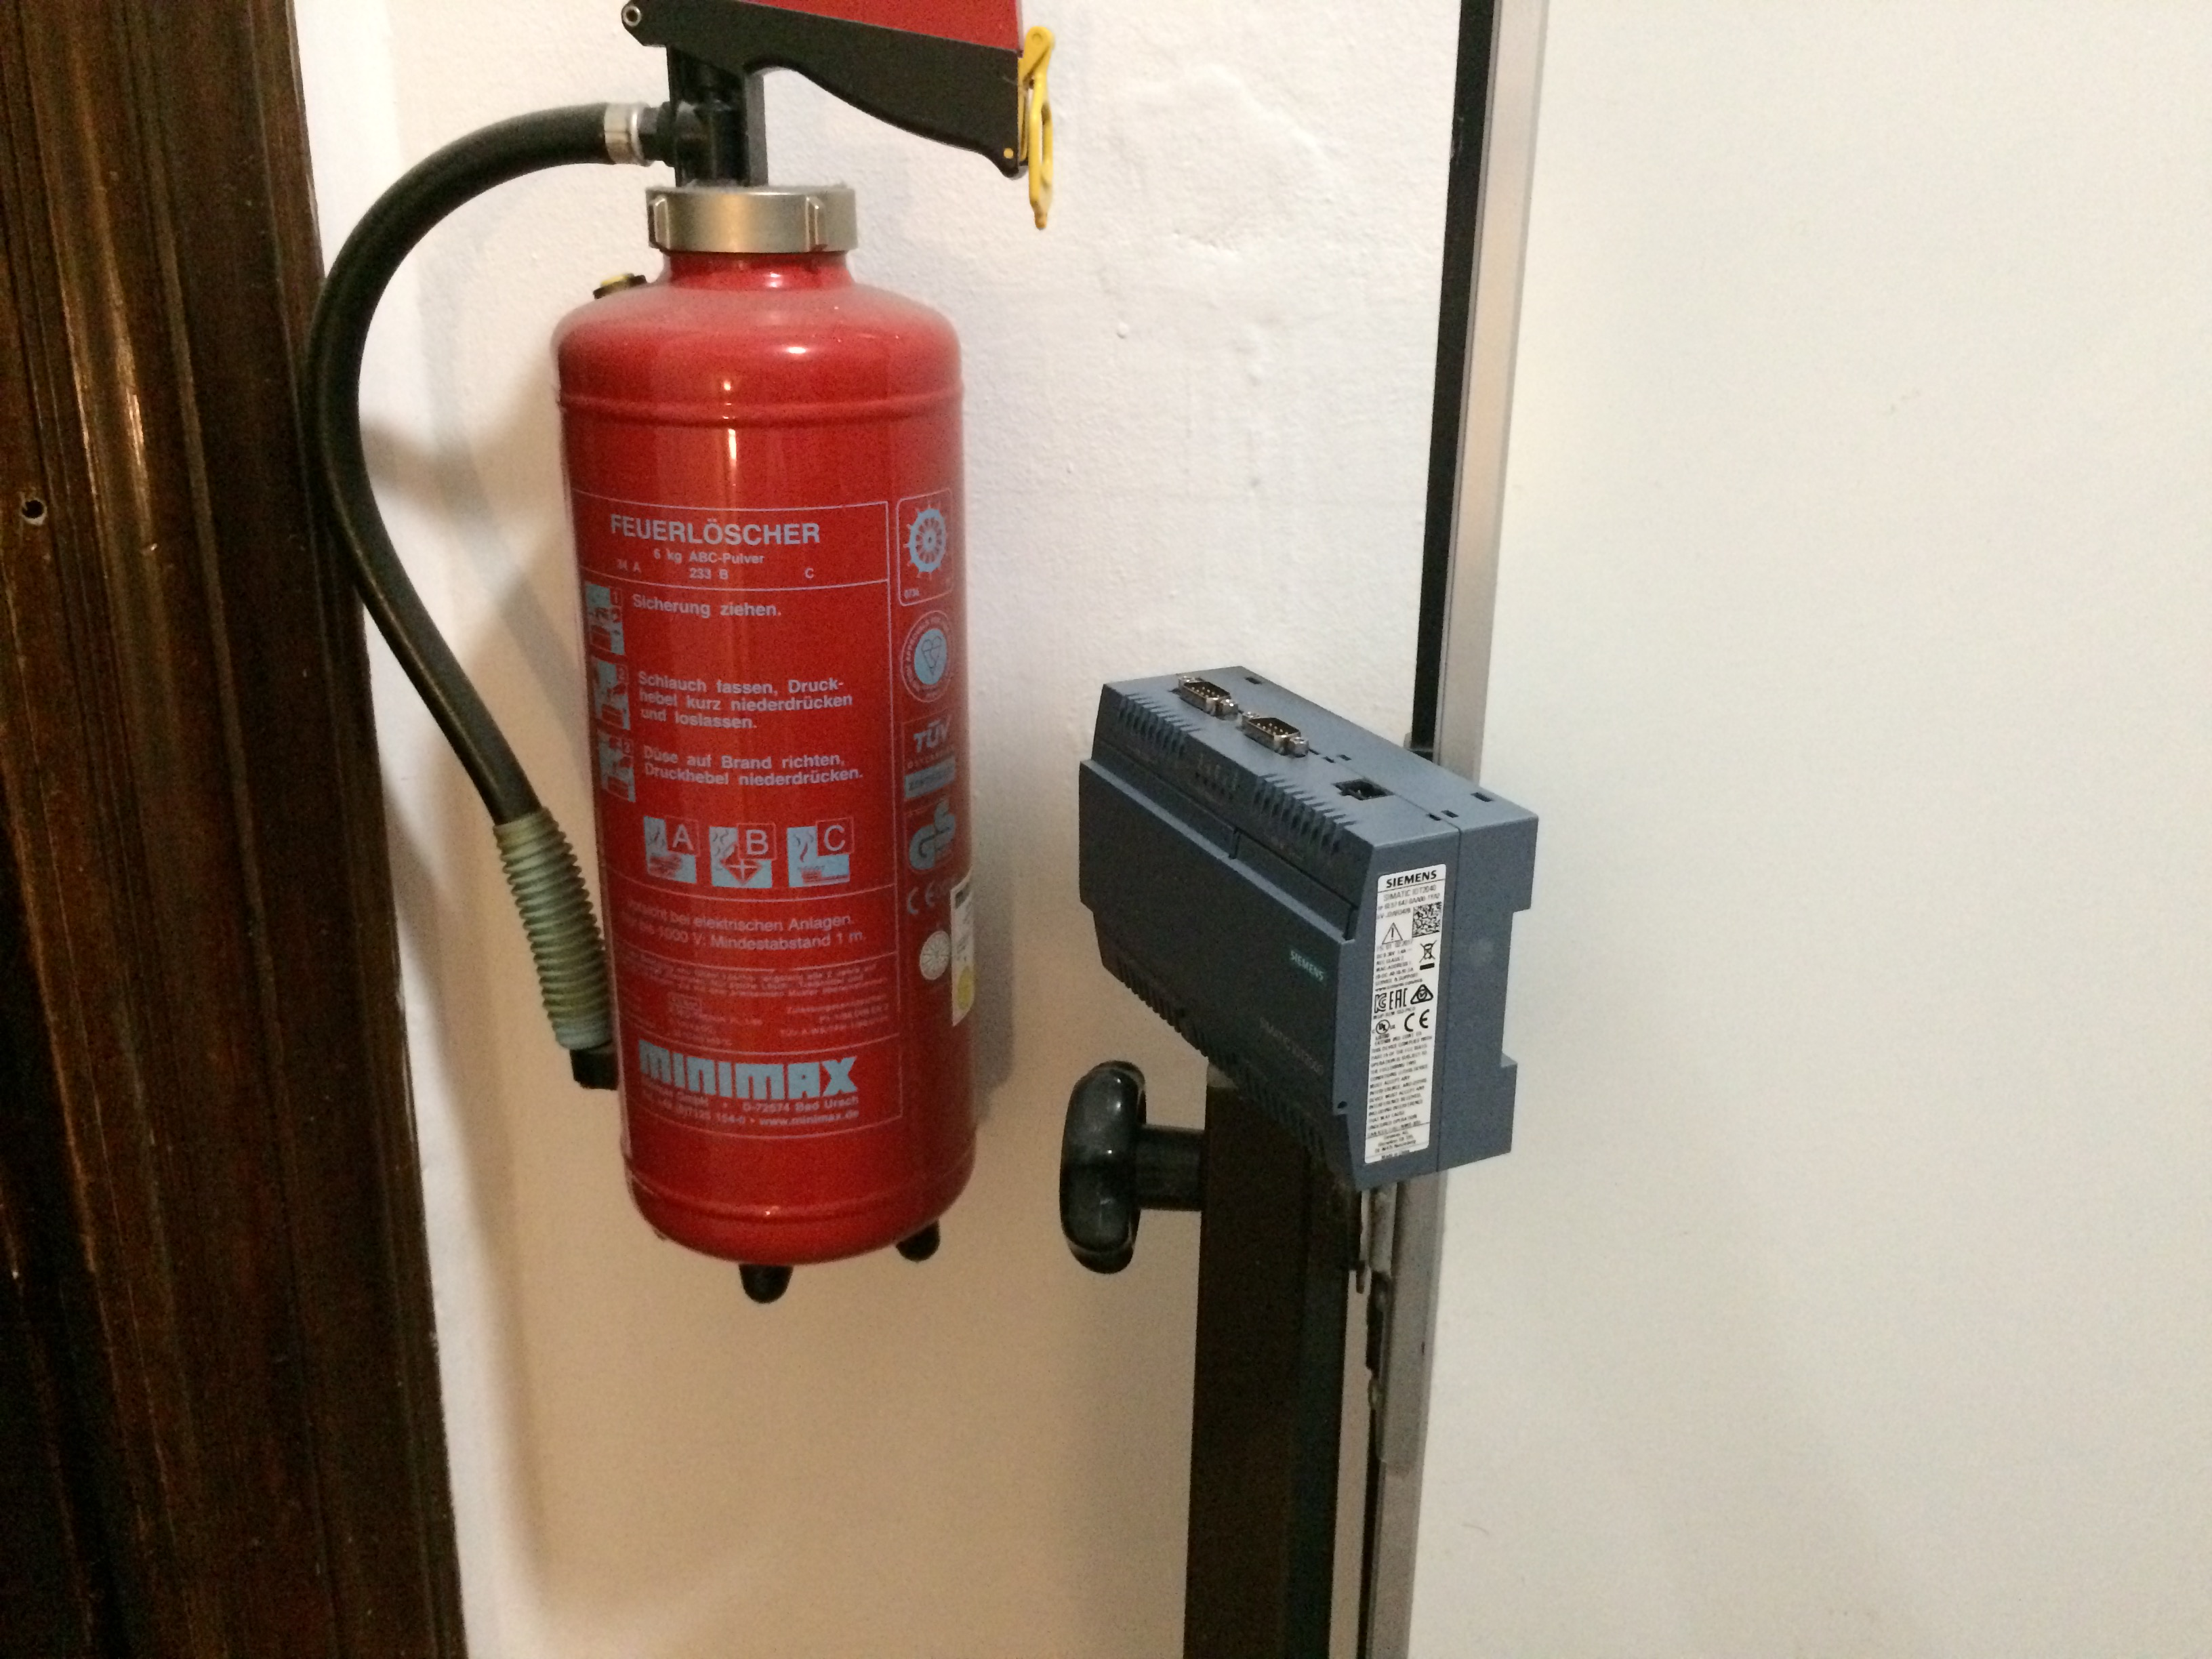iot2000: (1075, 660, 1543, 1197)
